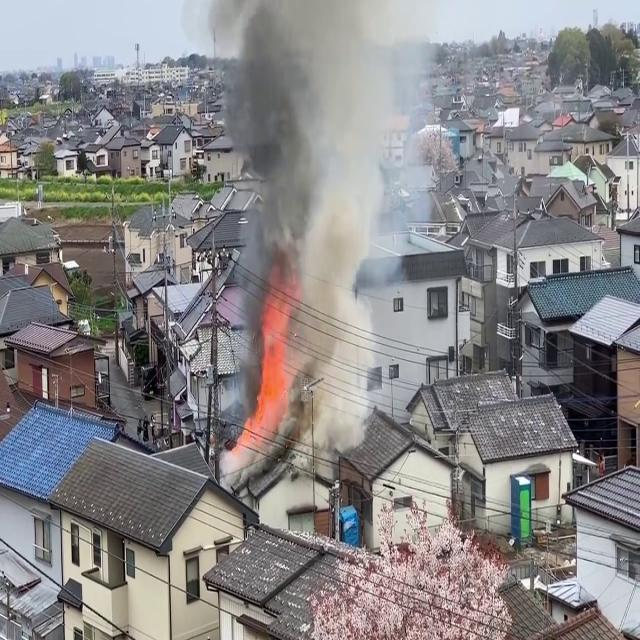Fire: (241, 271, 299, 442)
Smoke: (216, 0, 406, 445)
